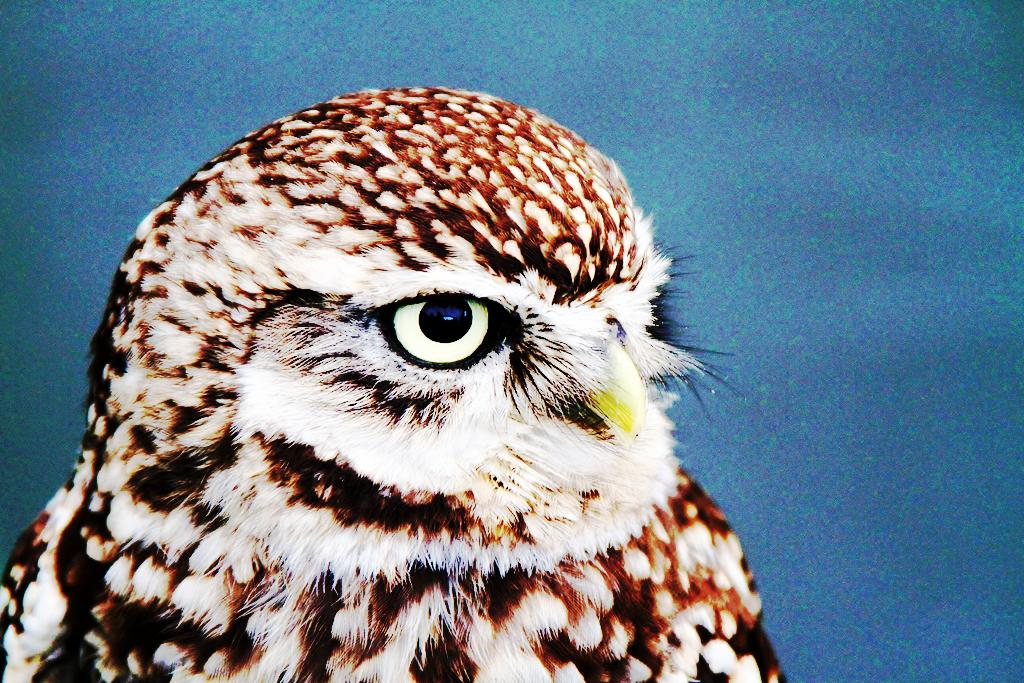Owl: (0, 78, 789, 682)
